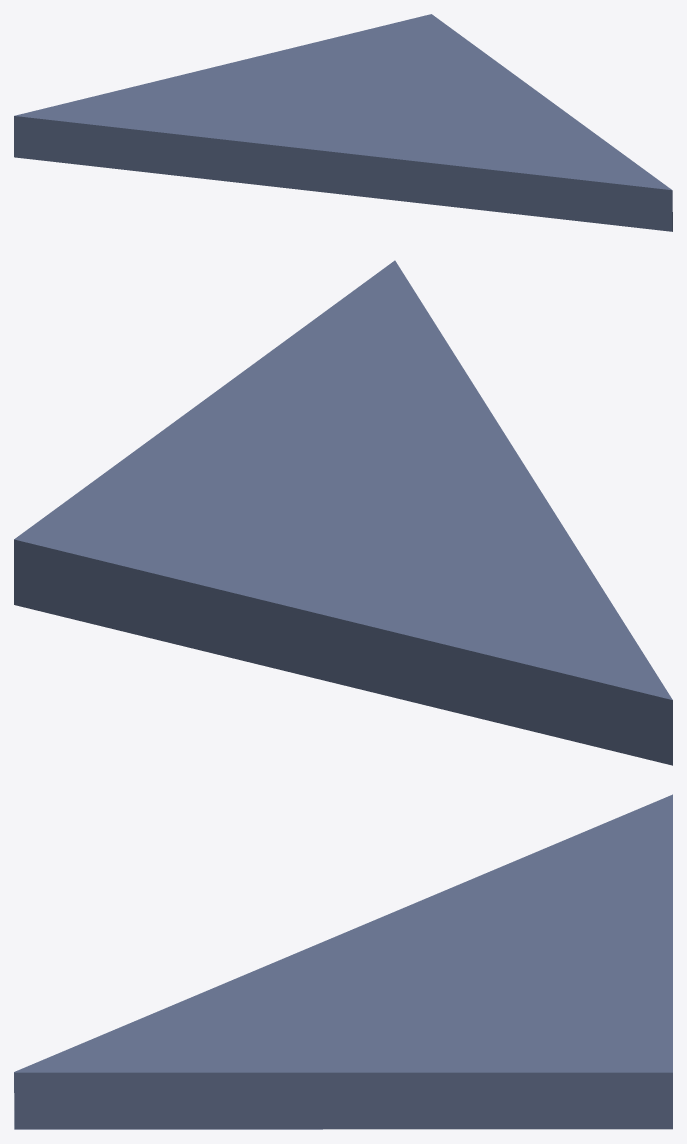
Rendered from piso grande 9.fbx.
3 renders of one model, top to bottom at view 1: azimuth 30°, elevation 25°; view 2: azimuth 150°, elevation 25°; view 3: azimuth 270°, elevation 25°, orthographic. The views are drawn at different scales.
Parts seen in each view (by area): view 1: floor.390; view 2: floor.390; view 3: floor.390.
Boxes of the visible parts, x1,y1,x2,y2 form: floor.390: (14, 14, 672, 231); floor.390: (14, 260, 672, 765); floor.390: (14, 794, 672, 1129).
Bounding box in the file's own units: 211 × 20.18 × 211.
